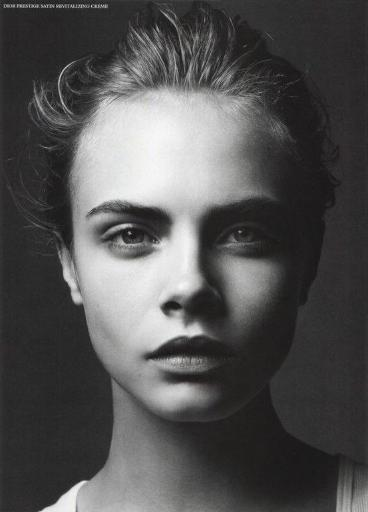left_eye: (218, 223, 278, 254)
left_lip_corner: (221, 337, 240, 370)
right_eye: (99, 222, 162, 257)
right_lip_corner: (142, 345, 159, 372)
